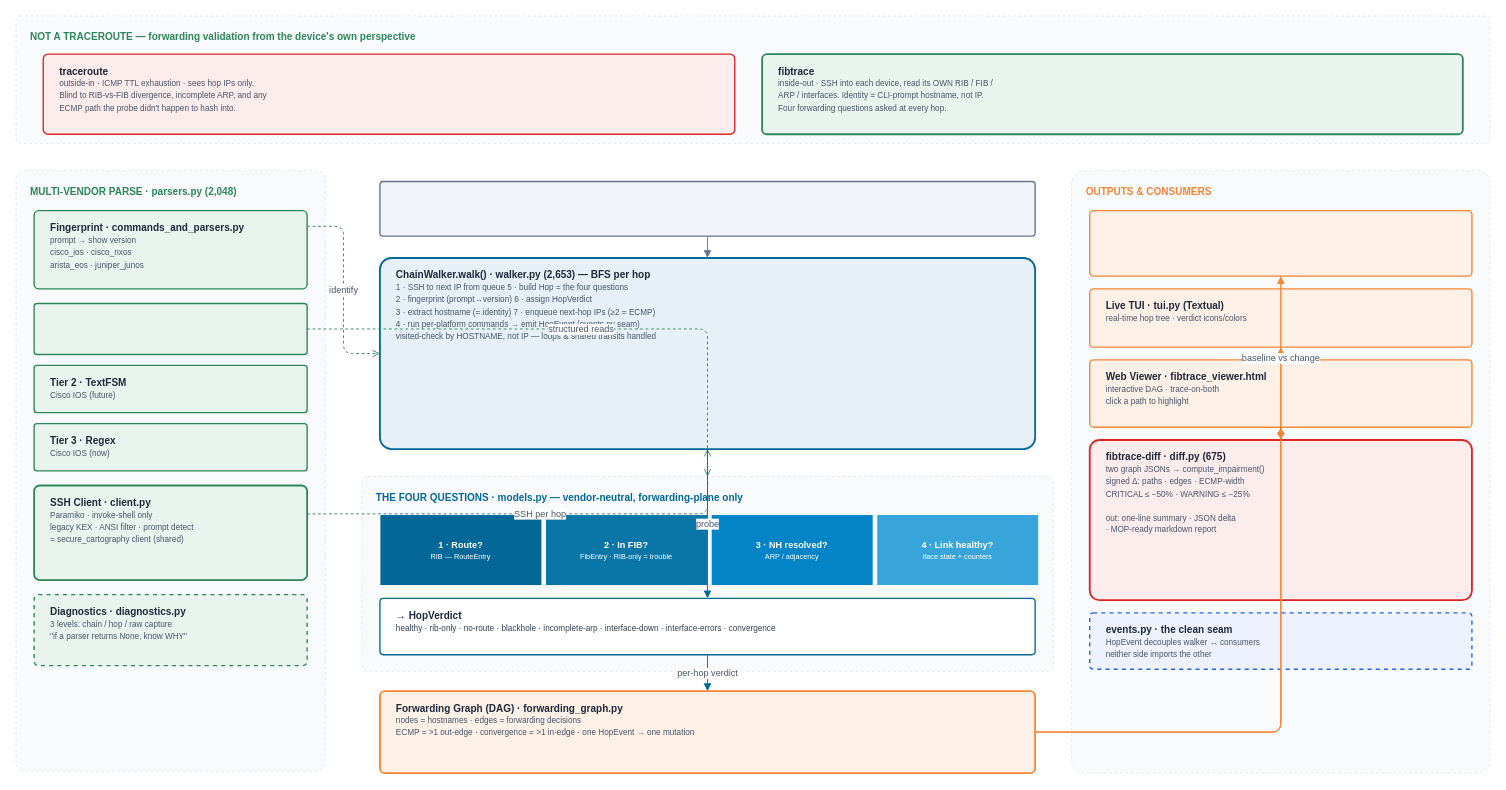
Some shapes in this 1506 by 790 pixel diagram are drawn without their labels. Each missing label, with the centre of its shape:
Inputs target prefix + seed device IP → CLI · TUI (Textual) · web: the point at 707,208
Tier 1 · Native JSON Arista EOS · NX-OS · Junos: the point at 170,328
Trace / Graph JSON --json (full trace) --graph (forwarding graph): the point at 1280,243
